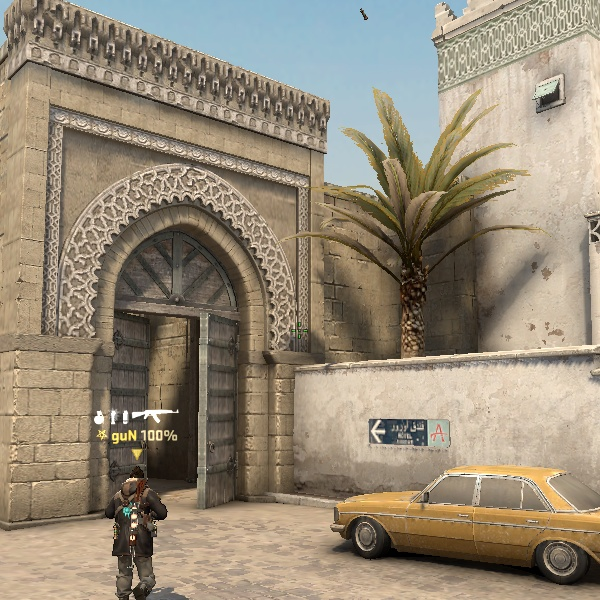t_body: (91, 461, 177, 597)
t_head: (118, 463, 152, 496)
